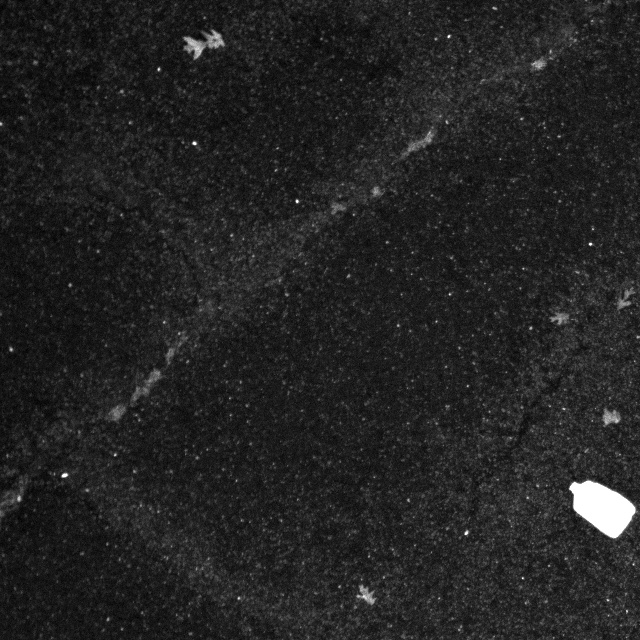can: (561, 471, 640, 539)
